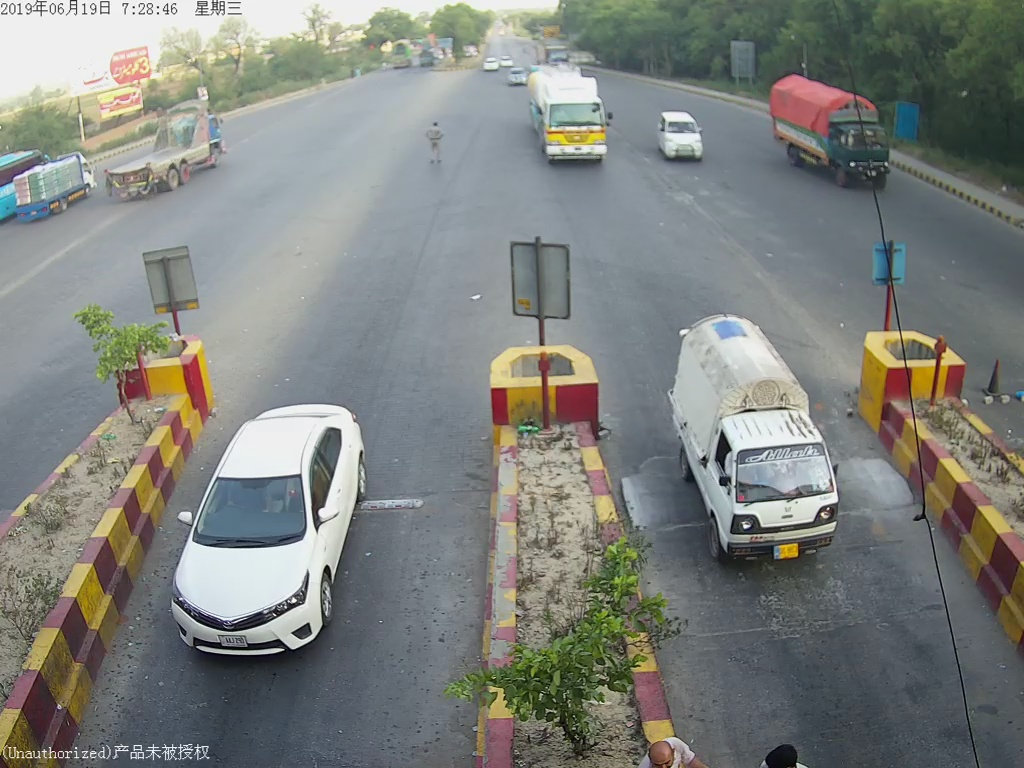Cat-1: (176, 403, 372, 666), (662, 309, 843, 566)
Cat-5: (529, 69, 615, 167)
